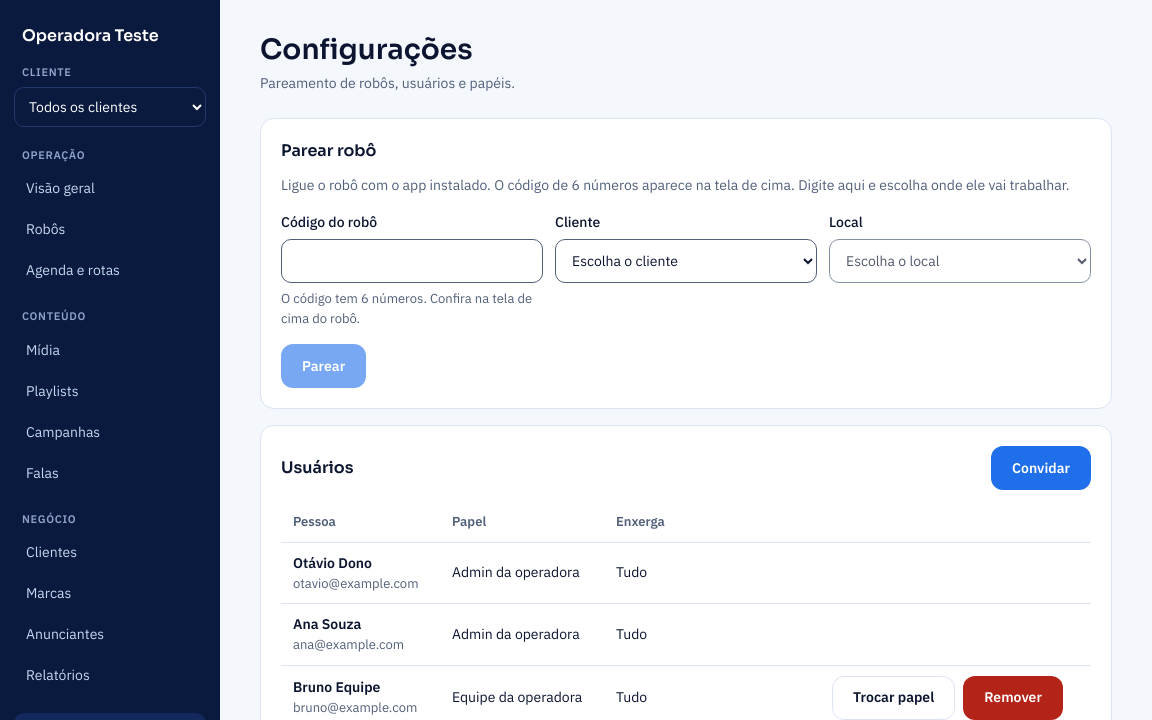
Test: changing a role › shows a 400 from the API inside the dialog
This screenshot has width=1152, height=720.
Expected: the button with aria-label "Remover Bruno Equipe" is shown, [963, 676, 1063, 719]
Click the button with aria-label "Trocar papel de Bruno Equipe" at (894, 698), box [832, 676, 955, 719]
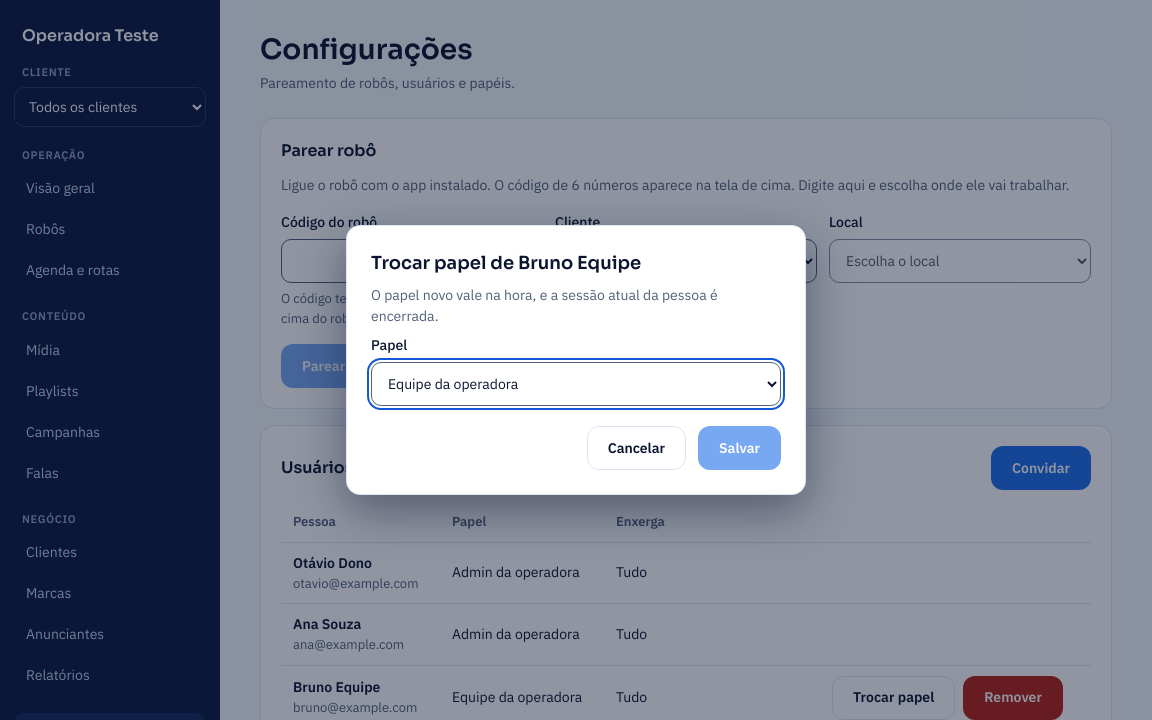
Select "Admin da operadora" in the dropdown labelled "Papel" at (576, 384), box [371, 362, 781, 406]
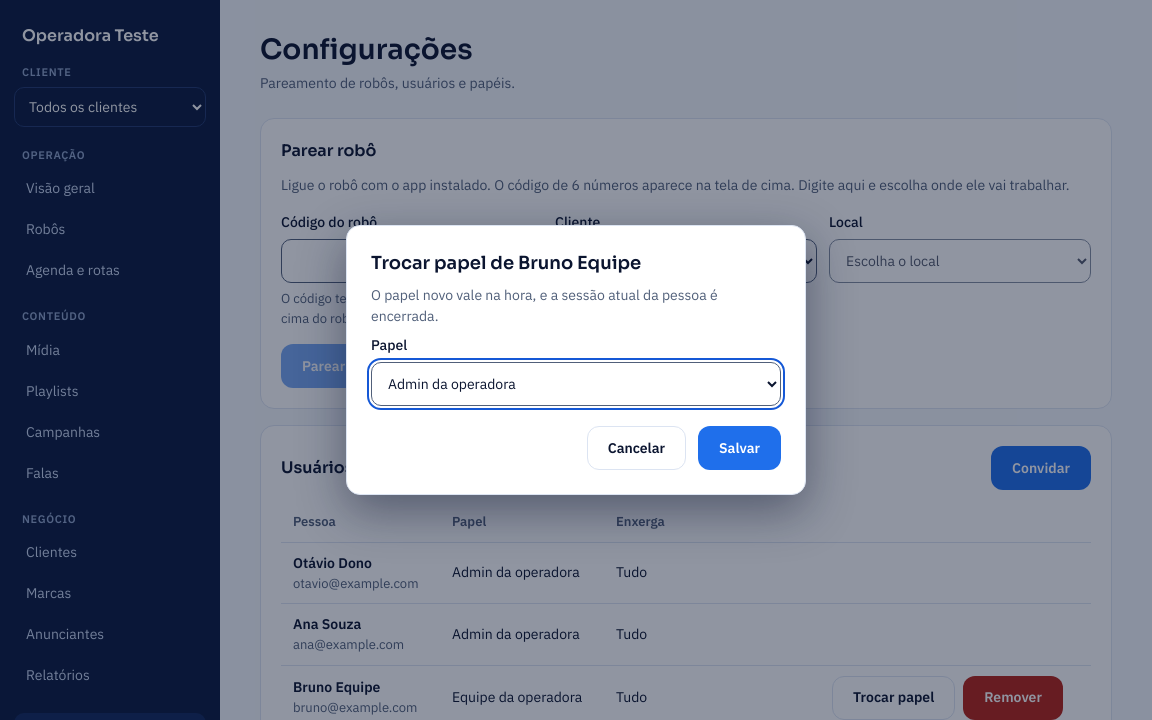
Click the button "Salvar" at (740, 448), box [698, 426, 781, 470]
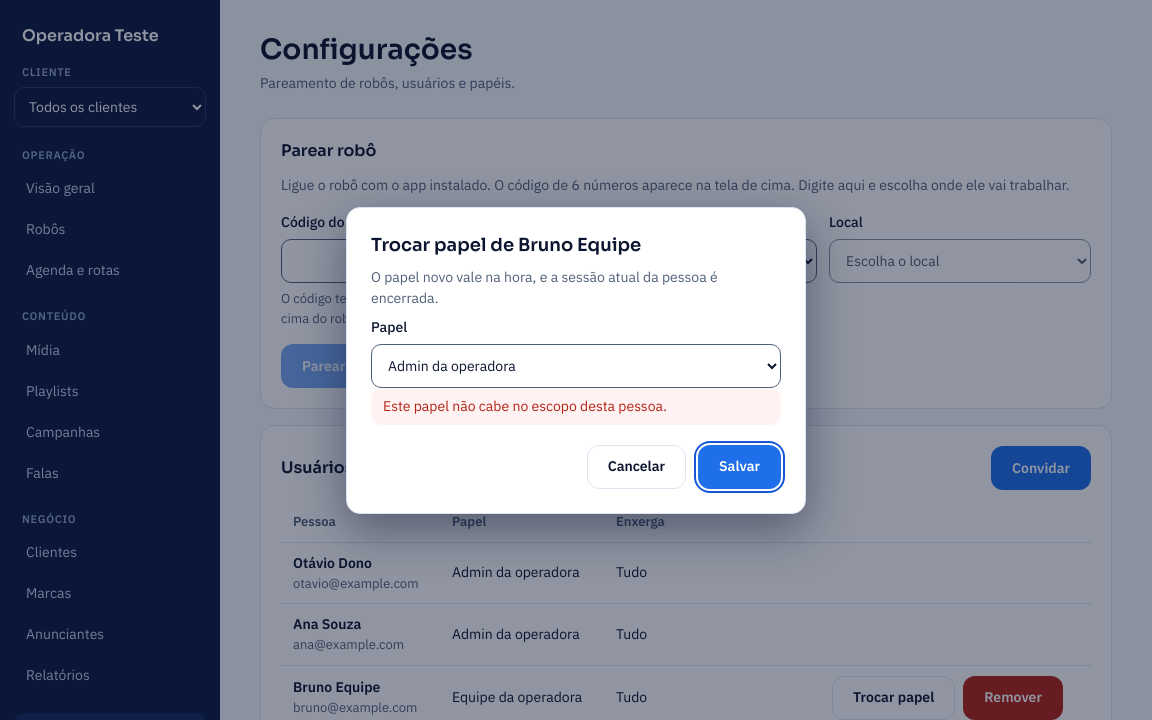
Result: the message reads "Este papel não cabe no escopo desta pessoa." at [383, 396, 667, 414]
